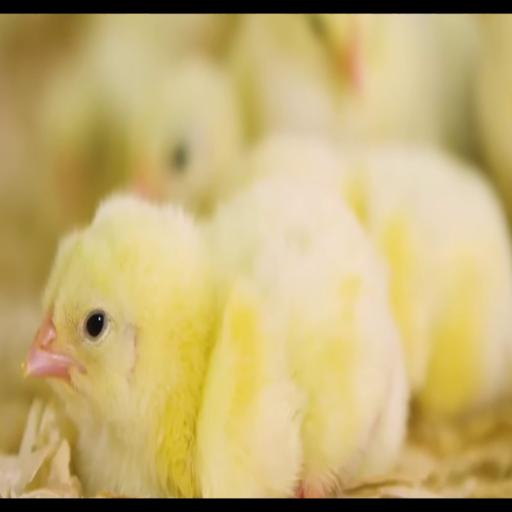chick: (25, 177, 408, 497), (130, 54, 245, 216)
